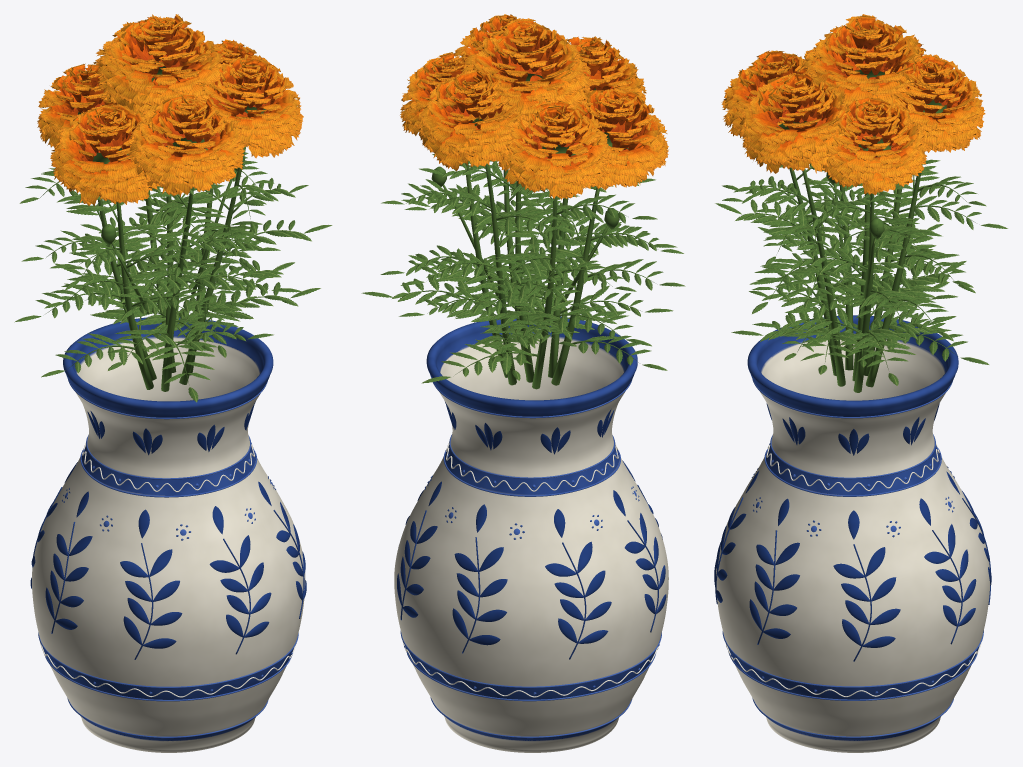
Rendered from jarron_talavera.gltf.
3 renders of one model, left to right at view 1: azimuth 30°, elevation 25°; view 2: azimuth 150°, elevation 25°; view 3: azimuth 270°, elevation 25°, orthographic.
Parts seen in each view (by area): view 1: cuerpo, ramo_Flor_01_Capa_03, ramo_Flor_06_Capa_04, ramo_Flor_01_Capa_04, ramo_Flor_01_Capa_05, ramo_Flor_06_Capa_03, ramo_Flor_06_Capa_05, ramo_Flor_05_Capa_03, ramo_Flor_01_Capa_06, ramo_Flor_07_Capa_05, ramo_Flor_06_Capa_02, ramo_Flor_05_Capa_04 (+47 smaller); view 2: cuerpo, ramo_Flor_04_Capa_03, ramo_Flor_01_Capa_05, ramo_Flor_01_Capa_03, ramo_Flor_01_Capa_04, ramo_Flor_03_Capa_03, ramo_Flor_03_Capa_04, ramo_Flor_01_Capa_06, ramo_Flor_03_Capa_02, ramo_Flor_04_Capa_05, ramo_Flor_04_Capa_02, ramo_Flor_04_Capa_04 (+53 smaller); view 3: cuerpo, ramo_Flor_01_Capa_04, ramo_Flor_07_Capa_04, ramo_Flor_01_Capa_05, ramo_Flor_02_Capa_04, ramo_Flor_01_Capa_06, ramo_Flor_07_Capa_03, ramo_Flor_07_Capa_05, ramo_Flor_02_Capa_03, ramo_Flor_07_Capa_06, ramo_Flor_07_Capa_02, ramo_Flor_02_Capa_02 (+54 smaller).
Boxes of the visible parts, x1,y1,x2,y2 form: cuerpo: [32, 317, 305, 752]; ramo_Flor_01_Capa_03: [96, 50, 224, 106]; ramo_Flor_06_Capa_04: [131, 121, 241, 171]; ramo_Flor_01_Capa_04: [101, 39, 223, 94]; ramo_Flor_01_Capa_05: [108, 27, 215, 84]; ramo_Flor_06_Capa_03: [128, 120, 244, 183]; ramo_Flor_06_Capa_05: [138, 108, 234, 156]; ramo_Flor_05_Capa_03: [50, 135, 150, 192]; ramo_Flor_01_Capa_06: [118, 17, 205, 74]; ramo_Flor_07_Capa_05: [200, 62, 294, 120]; ramo_Flor_06_Capa_02: [128, 122, 243, 191]; ramo_Flor_05_Capa_04: [54, 132, 164, 182]; cuerpo: [394, 316, 668, 752]; ramo_Flor_04_Capa_03: [499, 128, 610, 185]; ramo_Flor_01_Capa_05: [471, 37, 579, 87]; ramo_Flor_01_Capa_03: [460, 60, 591, 117]; ramo_Flor_01_Capa_04: [463, 45, 587, 101]; ramo_Flor_03_Capa_03: [418, 106, 534, 156]; ramo_Flor_03_Capa_04: [420, 99, 527, 145]; ramo_Flor_01_Capa_06: [482, 29, 568, 85]; ramo_Flor_03_Capa_02: [420, 112, 533, 167]; ramo_Flor_04_Capa_05: [511, 104, 601, 166]; ramo_Flor_04_Capa_02: [498, 133, 609, 195]; ramo_Flor_04_Capa_04: [507, 117, 608, 175]; cuerpo: [716, 315, 990, 752]; ramo_Flor_01_Capa_04: [805, 44, 924, 96]; ramo_Flor_07_Capa_04: [742, 102, 853, 148]; ramo_Flor_01_Capa_05: [813, 32, 921, 84]; ramo_Flor_02_Capa_04: [826, 128, 925, 169]; ramo_Flor_01_Capa_06: [823, 25, 910, 75]; ramo_Flor_07_Capa_03: [739, 106, 854, 163]; ramo_Flor_07_Capa_05: [748, 83, 846, 136]; ramo_Flor_02_Capa_03: [826, 135, 928, 181]; ramo_Flor_07_Capa_06: [756, 76, 835, 127]; ramo_Flor_07_Capa_02: [742, 101, 857, 166]; ramo_Flor_02_Capa_02: [821, 146, 926, 191].
Size of the model in its own units: 0.2558 by 0.5919 by 0.2263.
2 materials, 2 textured.
